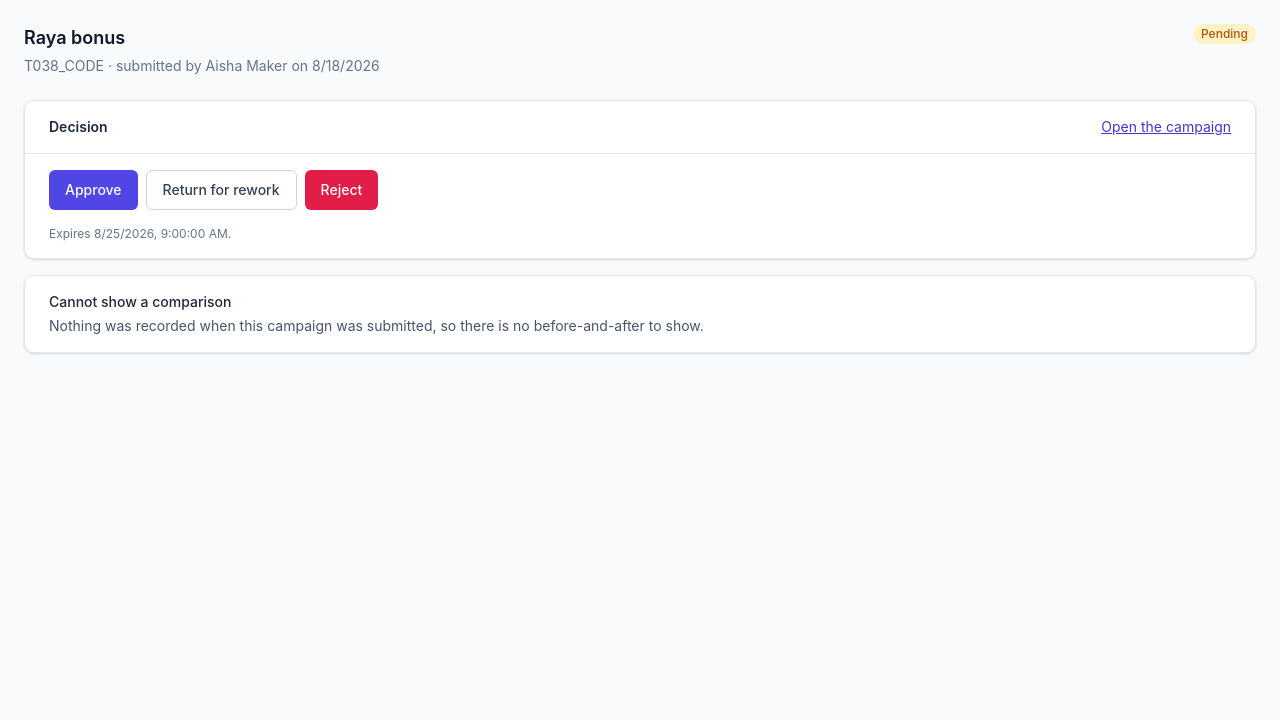
Test: T-038 · ApprovalDetailPage — the diff › TC-20: PAYLOAD_MISSING renders a readable fallback and the actions still work
Expected: the text "Cannot show a comparison" is shown, [49,293,231,310]
Expected: the text "Nothing was recorded" is shown, [49,317,704,334]
A diff is a reading aid, not a precondition — the decision is still available.
Click the button "Approve".
click(93, 190)  # box [49,170,138,210]
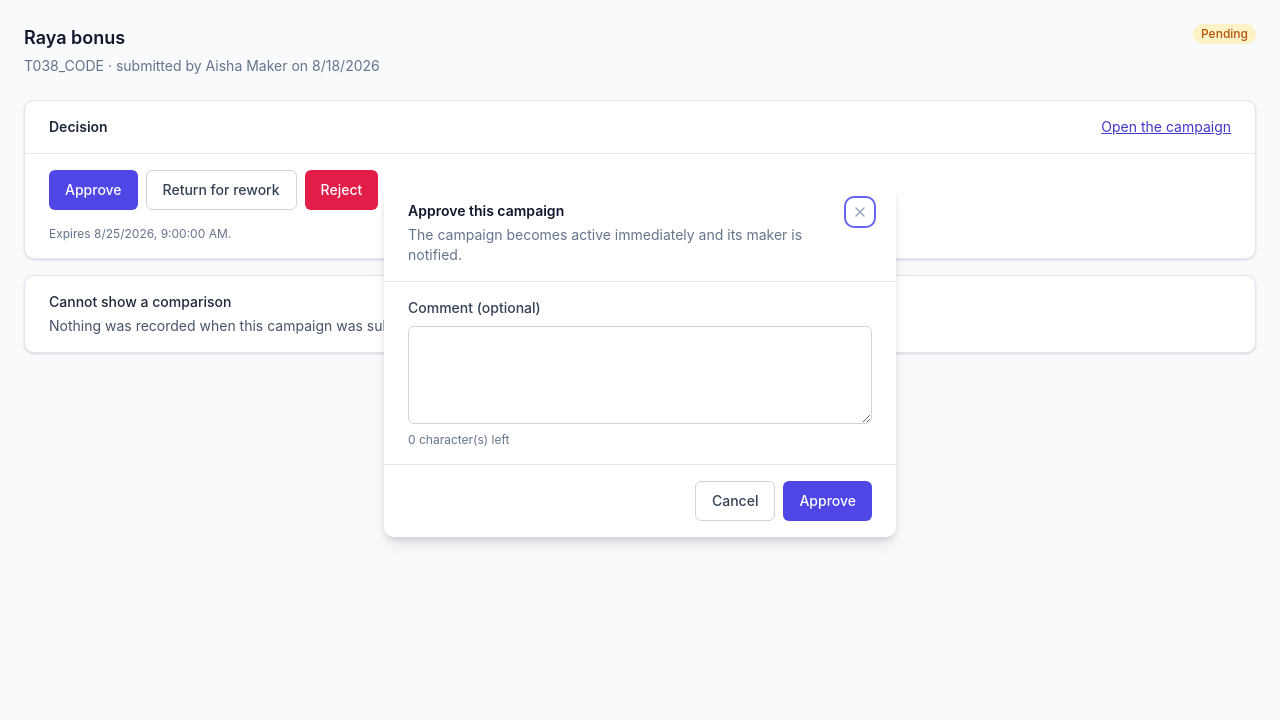
Expected: the dialog is shown, [384,184,896,536]
